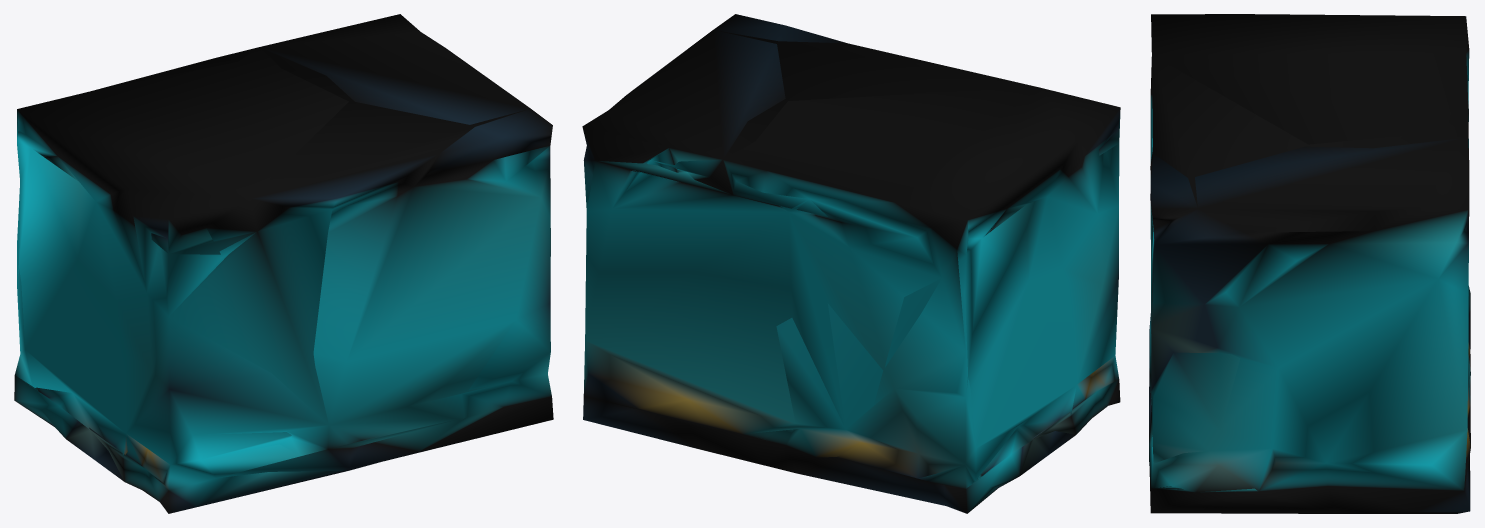
The model's file is gen3d-fish-tank-lod1.glb.
The picture shows the model from 3 angles, left to right: view 1: azimuth 30°, elevation 25°; view 2: azimuth 150°, elevation 25°; view 3: azimuth 270°, elevation 25°; orthographic projection. The views are drawn at different scales.
Visible parts, largest first — view 1: part_0; view 2: part_0; view 3: part_0.
Boxes of the visible parts, <box> form: part_0: <box>14,14,553,513</box>; part_0: <box>582,14,1120,513</box>; part_0: <box>1149,14,1470,513</box>.
Bounding box in the file's own units: 1.37 × 0.9979 × 0.9502.
